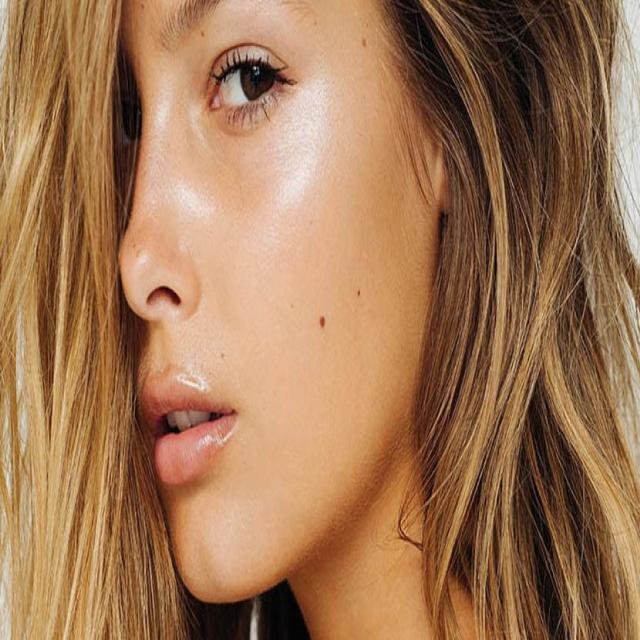Oily-Skin: (164, 345, 246, 407), (277, 147, 346, 213), (170, 187, 218, 275), (133, 84, 192, 138)
